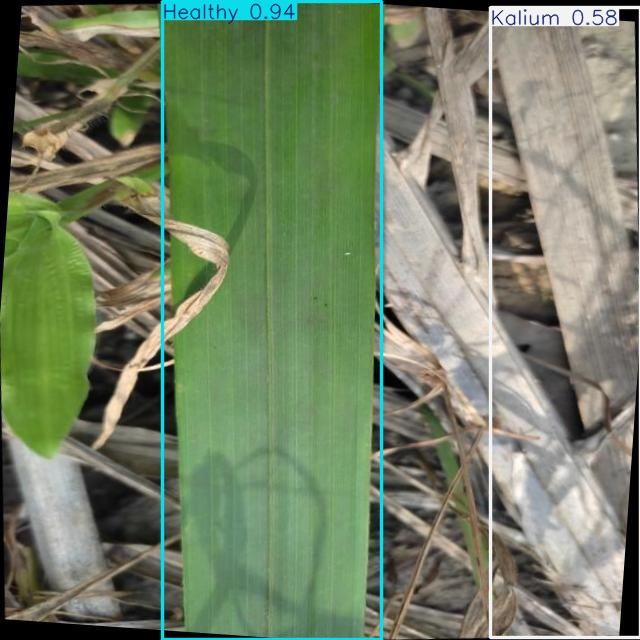Healthy: (163, 1, 382, 640)
Kalium: (491, 8, 640, 638)
